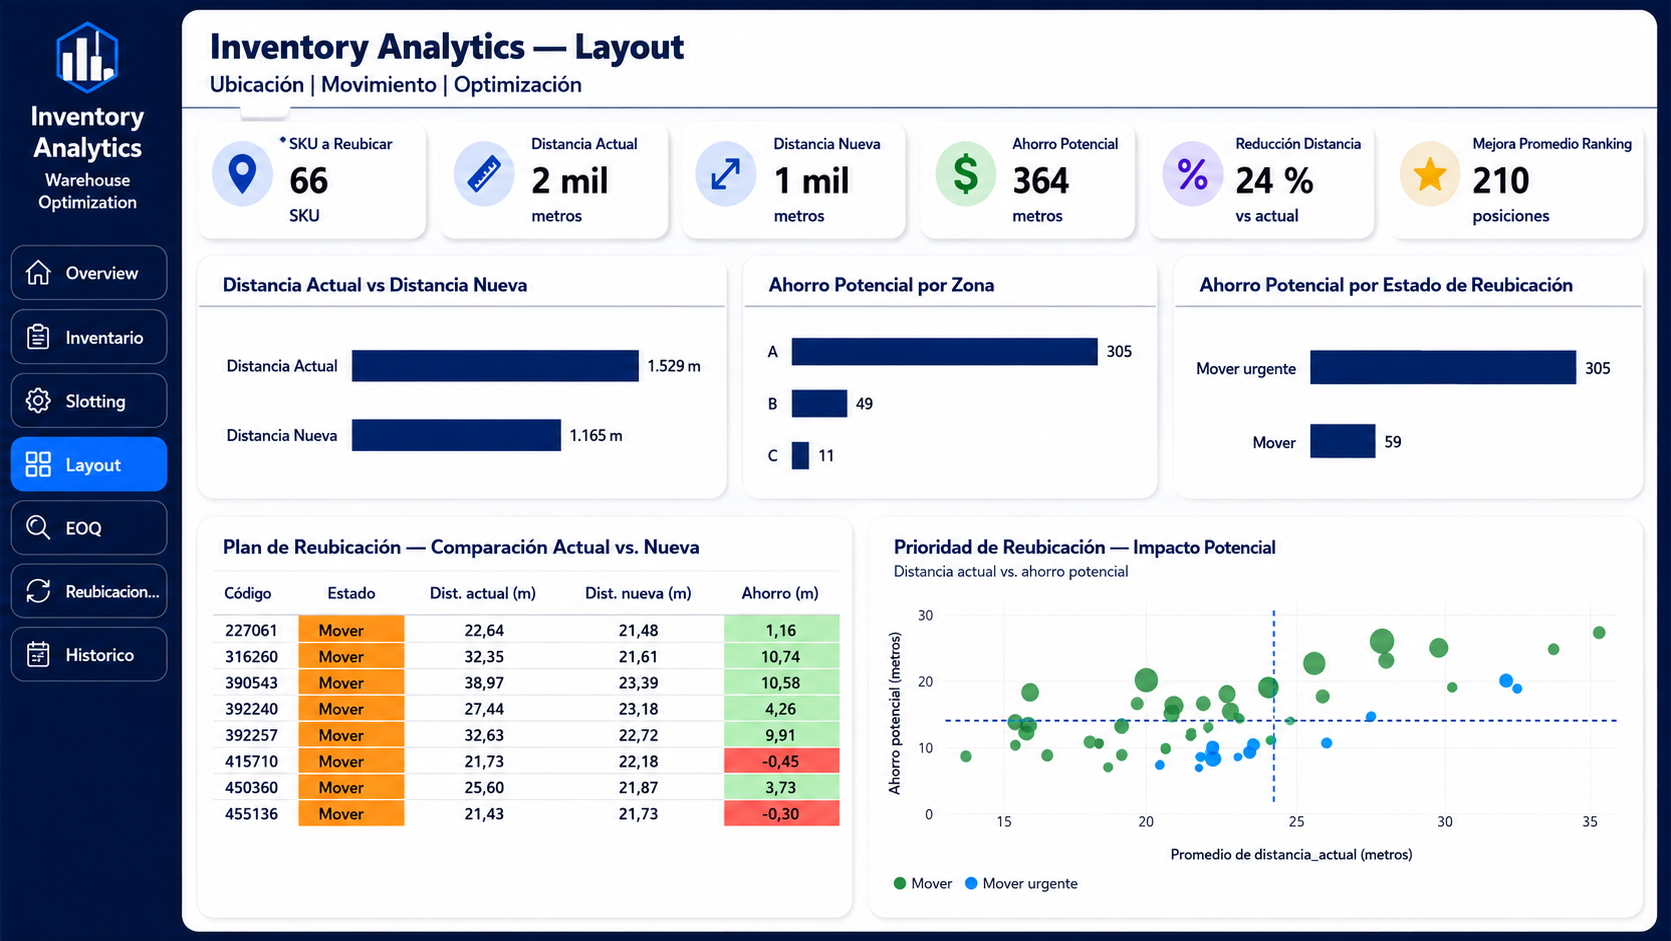

The page's visual inventory and layout, read from the dashboard file:
{"tool":"powerbi","page":{"name":"Layout","canvas":[1920,1080],"ordinal":3},"visuals":[{"type":"group","id":"g1","title":"Grupo 1","box":[0,25,1885,1040],"z":0},{"type":"shape","box":[240,25,1645,1040],"z":0,"group":"g1"},{"type":"cardVisual","title":"Total SKU","fields":{"Data":["Medidas.SKU con Nueva Ubicacion"]},"box":[244.1,129.6,218,110],"z":0,"group":"g2"},{"type":"shape","box":[0,25.9,239.8,1026],"z":1000,"group":"g1"},{"type":"group","id":"g2","title":"Grupo 2","box":[244.1,129.6,1630.8,108],"z":1000},{"type":"cardVisual","title":"SKU Optimos","fields":{"Data":["Medidas.Distancia Actual Total"]},"box":[507.2,129.6,202.3,109.4],"z":1000,"group":"g2"},{"type":"cardVisual","title":"SKU a Mover","fields":{"Data":["Medidas.Distancia Nueva Total"]},"box":[771.5,131.1,210.6,105.3],"z":2000,"group":"g2"},{"type":"shape","box":[42.5,200,170,37.5],"z":2000,"group":"g1"},{"type":"barChart","title":"Distancia Actual vs Distancia Nueva","fields":{"Category":["Comparacion Distancia.Tipo"],"Y":["Medidas.Valor Distancia Comparacion"]},"box":[255.3,282.8,520,320.1],"z":2000},{"type":"textbox","box":[28.1,99.4,185.8,118.8],"z":3000,"group":"g1"},{"type":"cardVisual","title":"SKU Mover Urgentes","fields":{"Data":["Medidas.Distancia Potencial Ahorrada"]},"box":[1050.2,129.6,216.8,109.4],"z":3000,"group":"g2"},{"type":"barChart","title":"Ahorro Potencial por Zona","fields":{"Category":["fact_layout.zona_recomendada"],"Y":["Medidas.Ahorro Potencial por Zona"]},"box":[801.2,282.8,520,320.1],"z":3000},{"type":"cardVisual","title":"SKU Sin Ubicacion","fields":{"Data":["Medidas.Reduccion Distancia %"]},"box":[1324.1,129.6,251.3,110],"z":4000,"group":"g2"},{"type":"pageNavigator","box":[28.1,237.6,185.8,773.3],"z":4000,"group":"g1"},{"type":"barChart","title":"Ahorro Potencial por Estado de Reubicación","fields":{"Category":["fact_layout.estado_slotting"],"Y":["Medidas.Ahorro por Estado"]},"box":[1351,282.8,520,320.1],"z":4000},{"type":"textbox","box":[256,40,510,75],"z":5000,"group":"g1"},{"type":"cardVisual","title":"Distancia Potencial Ahorrada","fields":{"Data":["Medidas.Mejora Promedio Ranking"]},"box":[1589.2,129.6,282.8,110],"z":5000,"group":"g2"},{"type":"tableEx","title":"Plan de Reubicación — Comparación Actual vs. Nueva","fields":{"Values":["fact_layout.codigo","fact_layout.estado_slotting","Sum(fact_layout.distancia_actual)","Sum(fact_layout.distancia_nueva)","Sum(fact_layout.ahorro_distancia)"]},"box":[255.3,646,606.8,365.2],"z":5000},{"type":"shape","box":[240,105,1640,36],"z":6000,"group":"g1"},{"type":"scatterChart","title":"Prioridad de Reubicación — Impacto Potencial","fields":{"Category":["fact_layout.codigo"],"Series":["fact_layout.estado_slotting"],"Size":["Sum(fact_layout.score_movimiento)"],"X":["Avg(fact_layout.distancia_actual)"],"Y":["Avg(fact_layout.ahorro_distancia)"]},"box":[909.4,645.8,961.2,365],"z":6000}]}

Visuals, with their boxes on the page's 1920x1080 design canvas (x1, y1, x2, y2). These are canvas units, not pixel positions in the 1671x941 screenshot, which may show the page scaled, cropped or inside an application window:
"Grupo 1" group: detection(0, 25, 1885, 1065)
shape: detection(240, 25, 1885, 1065)
"Total SKU" cardVisual: detection(244, 130, 462, 240)
shape: detection(0, 26, 240, 1052)
"Grupo 2" group: detection(244, 130, 1875, 238)
"SKU Optimos" cardVisual: detection(507, 130, 710, 239)
"SKU a Mover" cardVisual: detection(772, 131, 982, 236)
shape: detection(42, 200, 212, 238)
"Distancia Actual vs Distancia Nueva" barChart: detection(255, 283, 775, 603)
textbox: detection(28, 99, 214, 218)
"SKU Mover Urgentes" cardVisual: detection(1050, 130, 1267, 239)
"Ahorro Potencial por Zona" barChart: detection(801, 283, 1321, 603)
"SKU Sin Ubicacion" cardVisual: detection(1324, 130, 1575, 240)
pageNavigator: detection(28, 238, 214, 1011)
"Ahorro Potencial por Estado de Reubicación" barChart: detection(1351, 283, 1871, 603)
textbox: detection(256, 40, 766, 115)
"Distancia Potencial Ahorrada" cardVisual: detection(1589, 130, 1872, 240)
"Plan de Reubicación — Comparación Actual vs. Nueva" tableEx: detection(255, 646, 862, 1011)
shape: detection(240, 105, 1880, 141)
"Prioridad de Reubicación — Impacto Potencial" scatterChart: detection(909, 646, 1871, 1011)
